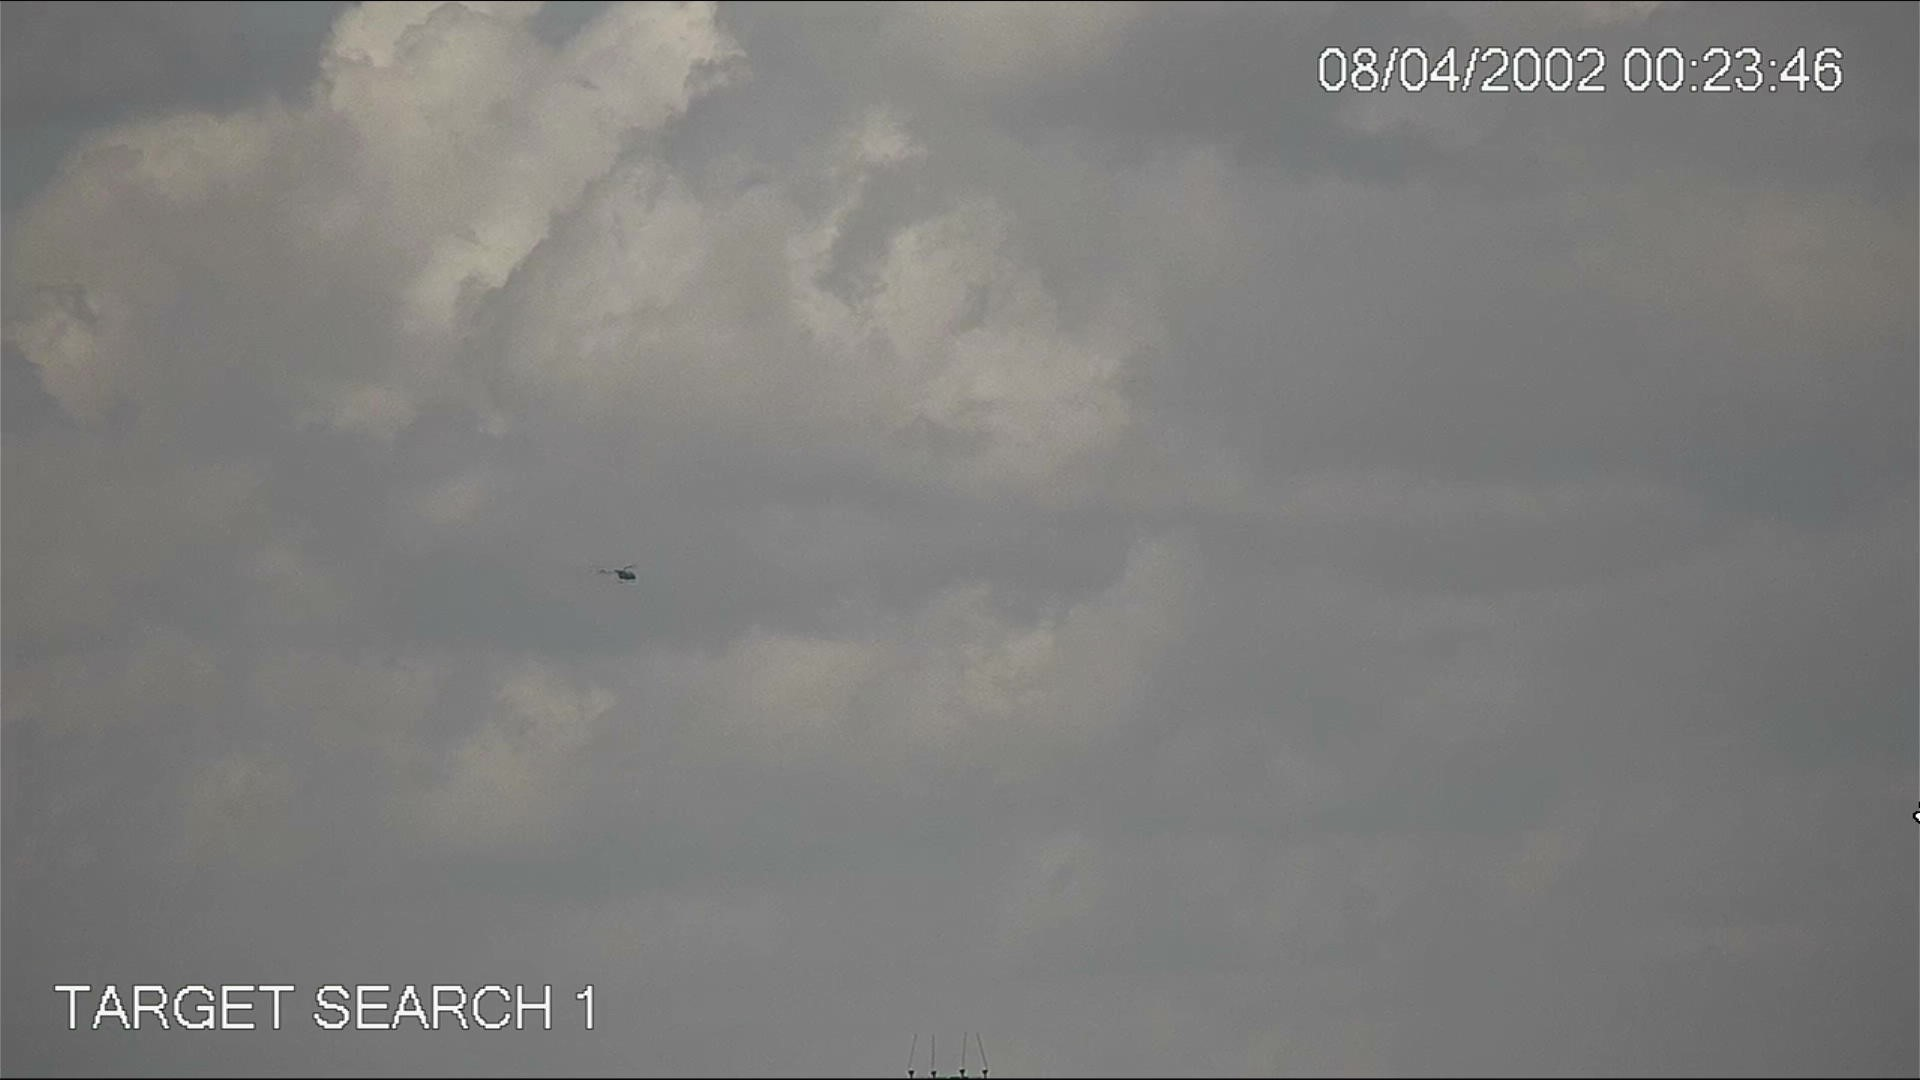SU_30: (593, 556, 641, 589)
